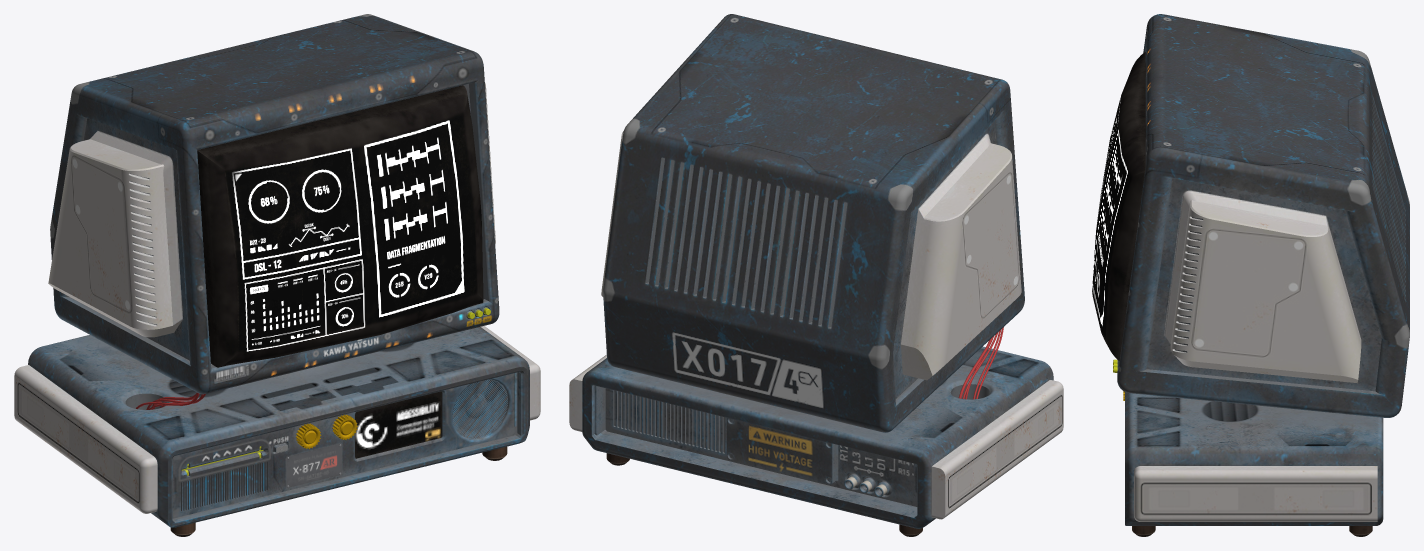
File: future_pc.glb
3 renders of one model, left to right at view 1: azimuth 30°, elevation 25°; view 2: azimuth 150°, elevation 25°; view 3: azimuth 270°, elevation 25°, orthographic. The views are drawn at different scales.
Visible parts, largest first — view 1: Sphere.001, Sphere.002, Extruded.001; view 2: Sphere.001, Pipe.005; view 3: Sphere.001, Sphere.002, Solid_165.
Part boxes in pixels (left/top/right/bottom): Sphere.001: left=14, top=14, right=540, bottom=527; Sphere.002: left=197, top=85, right=483, bottom=367; Extruded.001: left=286, top=443, right=341, bottom=487; Sphere.001: left=569, top=14, right=1063, bottom=528; Pipe.005: left=958, top=327, right=1003, bottom=399; Sphere.001: left=1113, top=14, right=1409, bottom=525; Sphere.002: left=1092, top=52, right=1145, bottom=360; Solid_165: left=1132, top=526, right=1372, bottom=536.
Bounding box in the file's own units: 23.9 × 22.95 × 17.37.
Materials: 6 (6 with a texture image).
